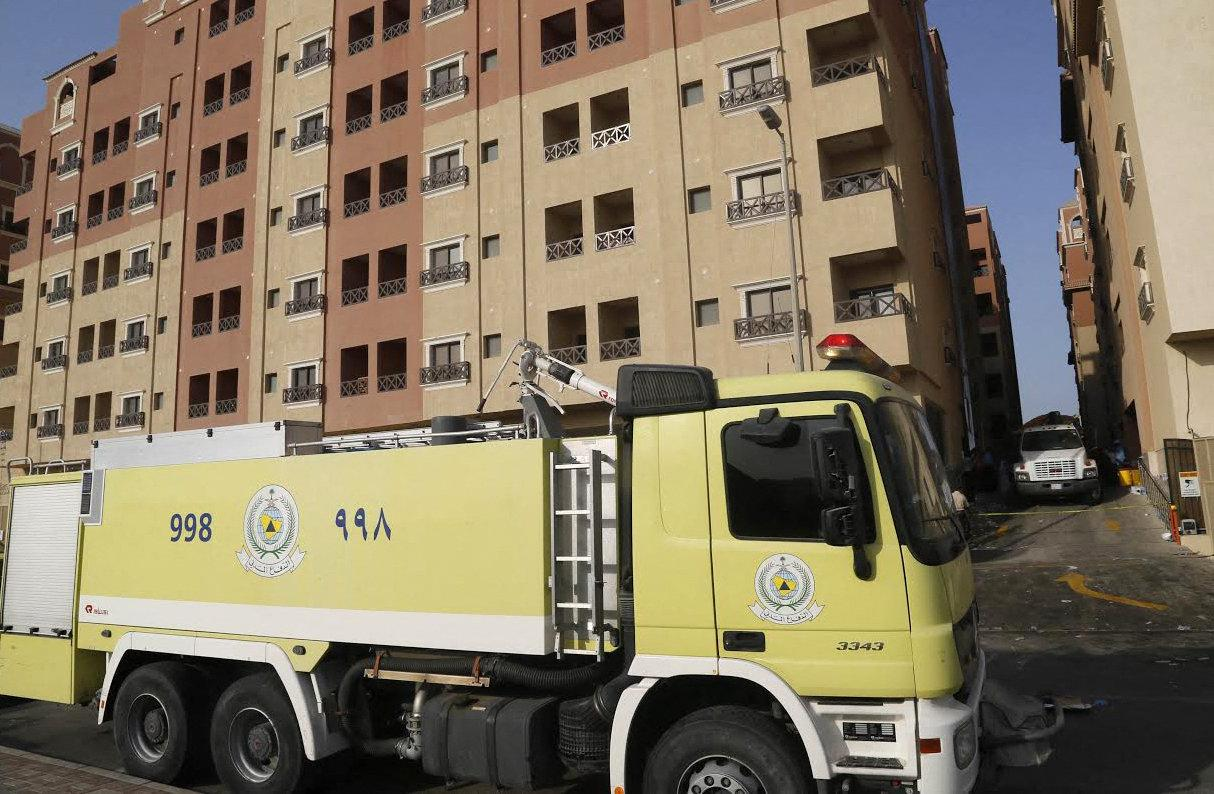firetruck_off: (0, 330, 984, 789)
